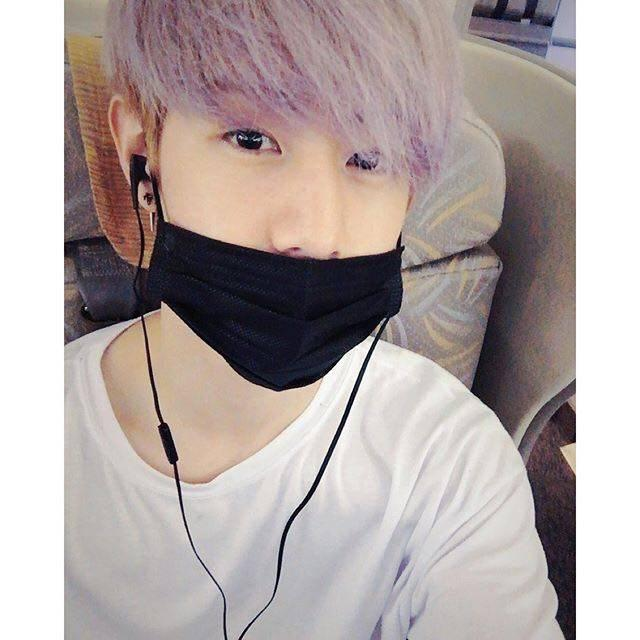WRONG: (140, 59, 476, 395)
